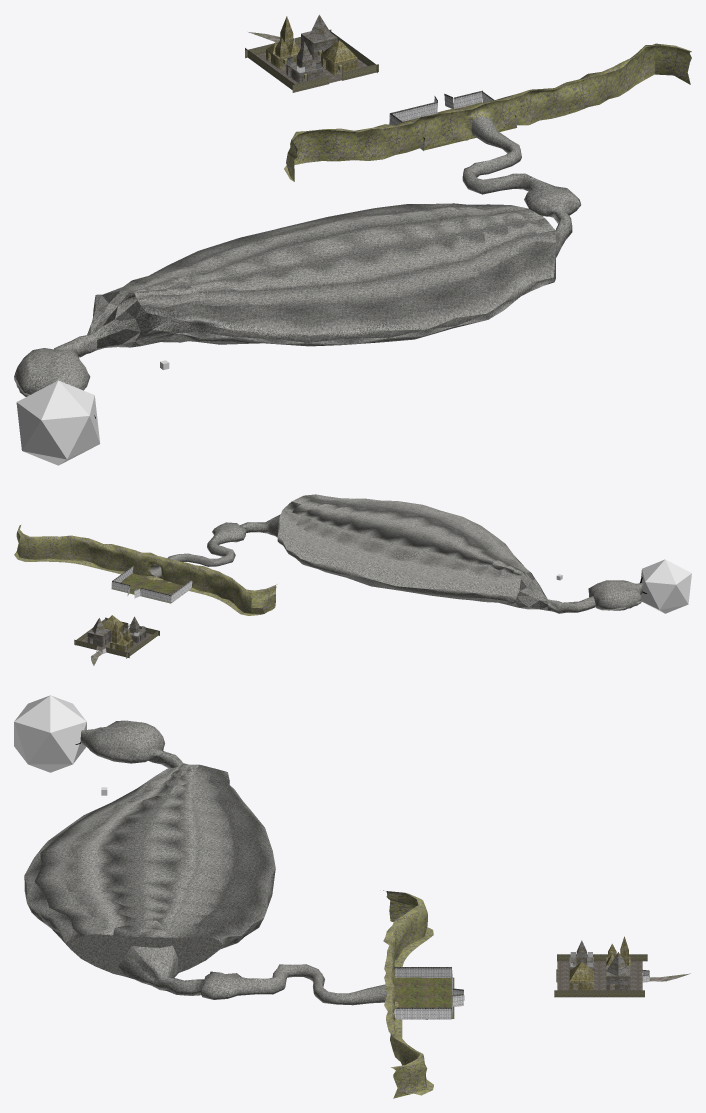
Rendered from Greybox 03 resized one point three 02.FBX.
3 views of the same model, one above another, from view 1: azimuth 30°, elevation 25°; view 2: azimuth 150°, elevation 25°; view 3: azimuth 270°, elevation 25° (orthographic). The views are drawn at different scales.
Visible parts, largest first — view 1: Cylinder001, cliff face, GeoSphere001, Plane020, cave exit tunnel, Second room cave, Big cave exit room, Plane025; view 2: Cylinder001, cliff face, GeoSphere001, Plane020, Second room cave, Big cave exit room, cave exit tunnel, Plane001, Tunnel 01; view 3: Cylinder001, cliff face, GeoSphere001, Big cave exit room, Plane020, Second room cave, cave exit tunnel, Plane001, Plane027, Plane023, Plane026.
Part boxes in pixels (<box>): Cylinder001: <box>87,203,555,349</box>; cliff face: <box>284,43,691,181</box>; GeoSphere001: <box>16,380,100,465</box>; Plane020: <box>256,14,367,83</box>; cave exit tunnel: <box>462,116,539,194</box>; Second room cave: <box>14,348,90,394</box>; Big cave exit room: <box>524,178,581,257</box>; Plane025: <box>292,64,378,92</box>; Cylinder001: <box>277,494,548,610</box>; cliff face: <box>14,525,277,615</box>; GeoSphere001: <box>640,559,691,613</box>; Plane020: <box>81,615,152,652</box>; Second room cave: <box>588,580,642,609</box>; Big cave exit room: <box>212,514,280,544</box>; cave exit tunnel: <box>149,535,235,576</box>; Plane001: <box>111,573,182,603</box>; Tunnel 01: <box>547,596,595,613</box>; Cylinder001: <box>24,763,275,976</box>; cliff face: <box>383,890,433,1098</box>; GeoSphere001: <box>14,695,86,772</box>; Big cave exit room: <box>118,945,255,999</box>; Plane020: <box>557,936,642,990</box>; Second room cave: <box>80,720,164,763</box>; cave exit tunnel: <box>255,964,387,1005</box>; Plane001: <box>394,977,454,1019</box>; Plane027: <box>394,1007,451,1019</box>; Plane023: <box>554,990,644,997</box>; Plane026: <box>394,967,451,977</box>.
Bounding box in the file's own units: 26393 × 2647 × 19853.
